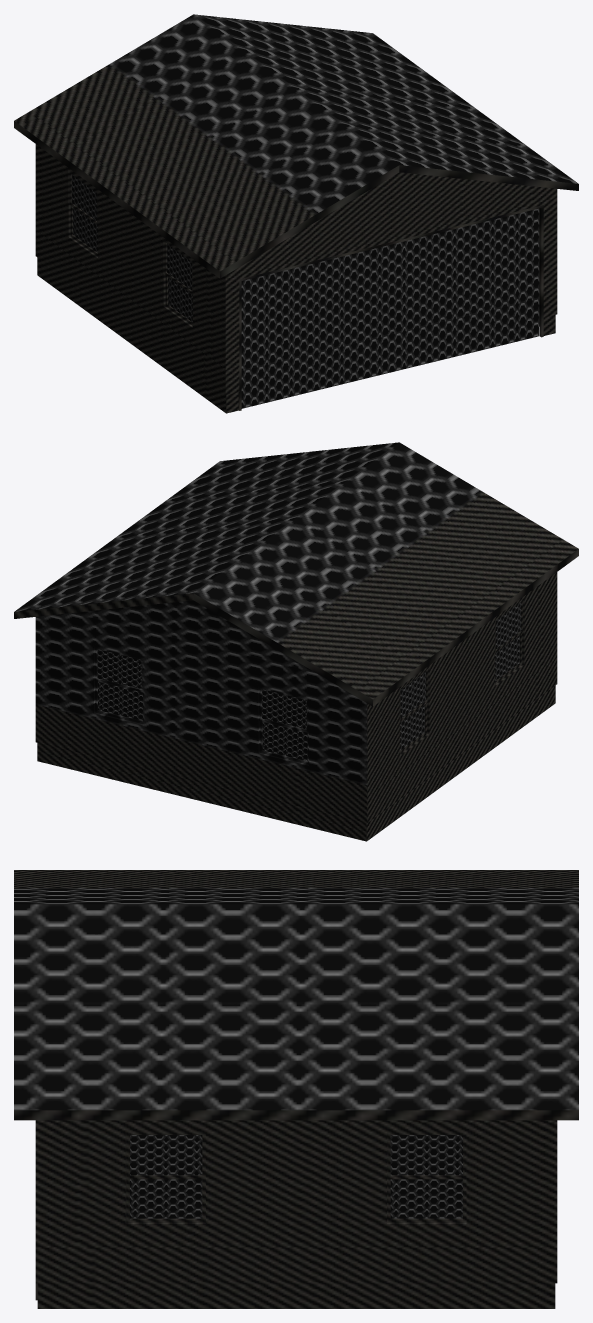
File: House.fbx
3 renders of one model, top to bottom at view 1: azimuth 30°, elevation 25°; view 2: azimuth 150°, elevation 25°; view 3: azimuth 270°, elevation 25°, orthographic. The views are drawn at different scales.
Visible parts, largest first — view 1: Material22; view 2: Material22; view 3: Material22.
Part boxes in pixels (bbox=[...]): Material22: bbox=[14, 14, 578, 413]; Material22: bbox=[14, 442, 578, 841]; Material22: bbox=[14, 870, 578, 1308].
Bounding box in the file's own units: 525 × 300 × 522.
